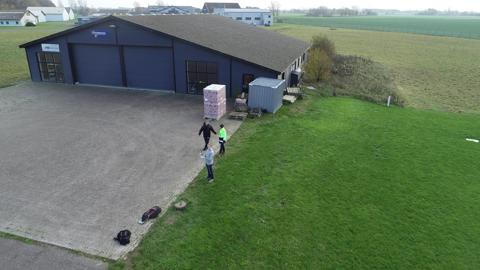RockwoolPallet: (203, 83, 228, 121)
